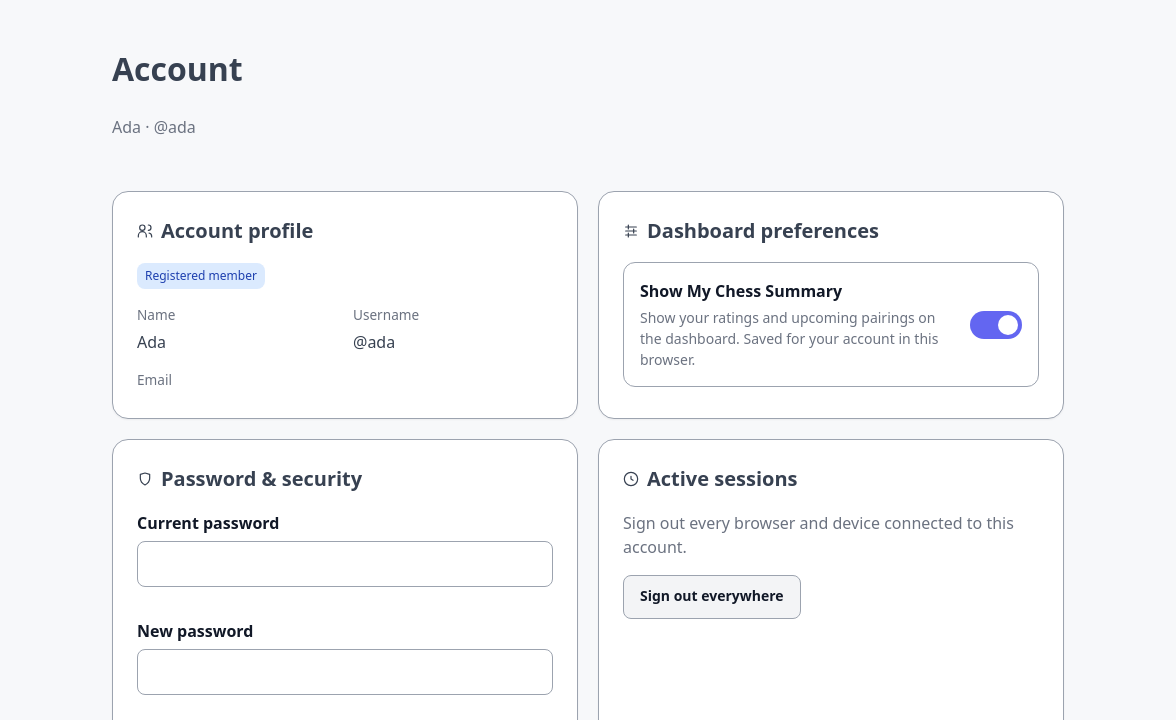
Test: retains password success after clearing authentication and rendering login
The image size is (1176, 720).
Expected: the heading "Account" is shown, [112,47,243,90]
Type "old-password" into the password field labelled "Current password".
click(345, 564); type("old-password")  # box [137,541,553,587]
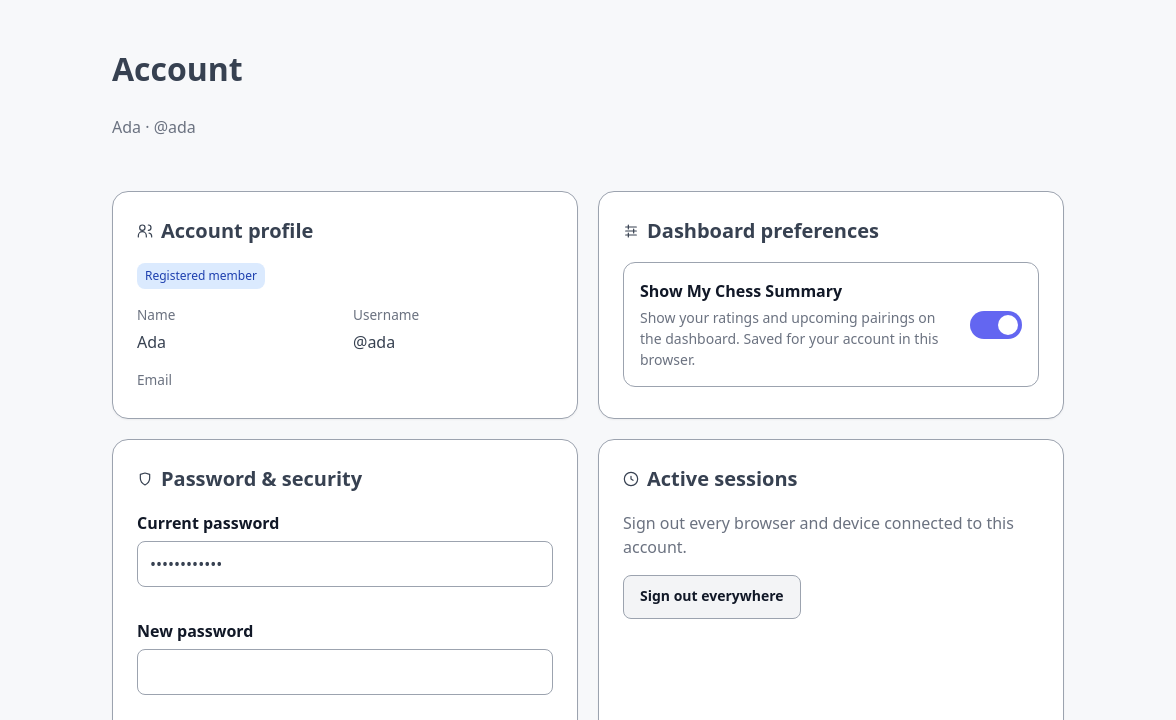
Type "new-password" into the password field labelled "New password".
click(345, 672); type("new-password")  # box [137,649,553,695]
(page scrolled)
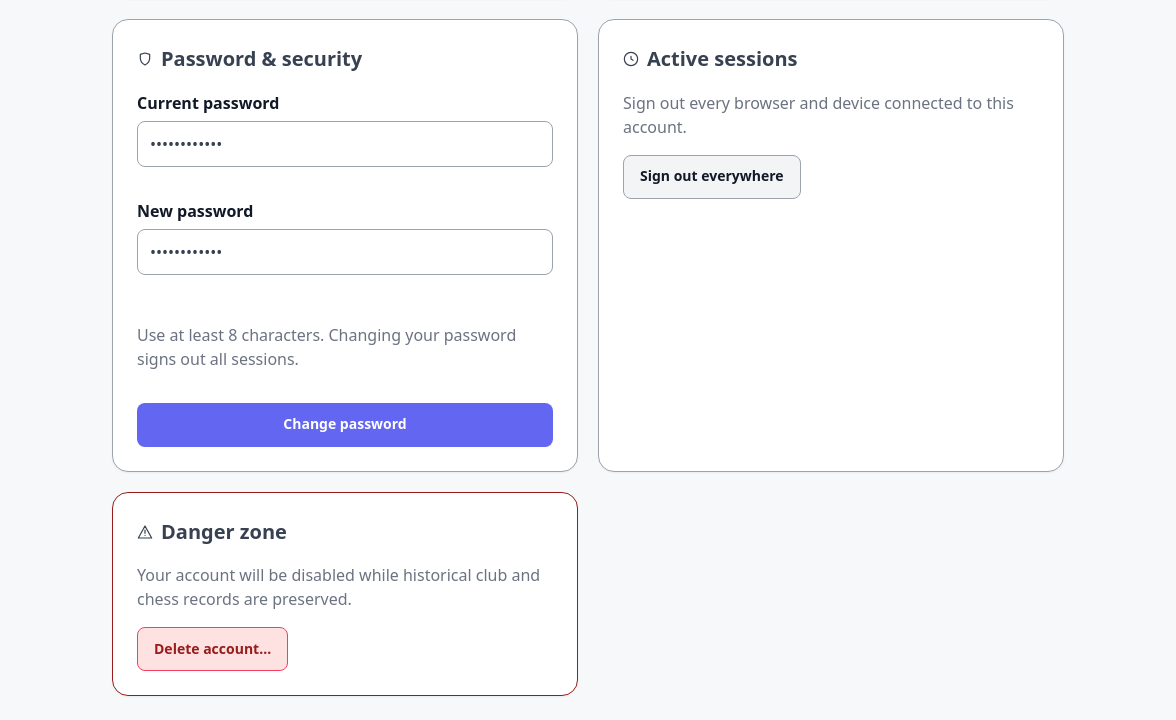
Click the button "Change password".
click(345, 425)  # box [137,403,553,447]
(page scrolled)
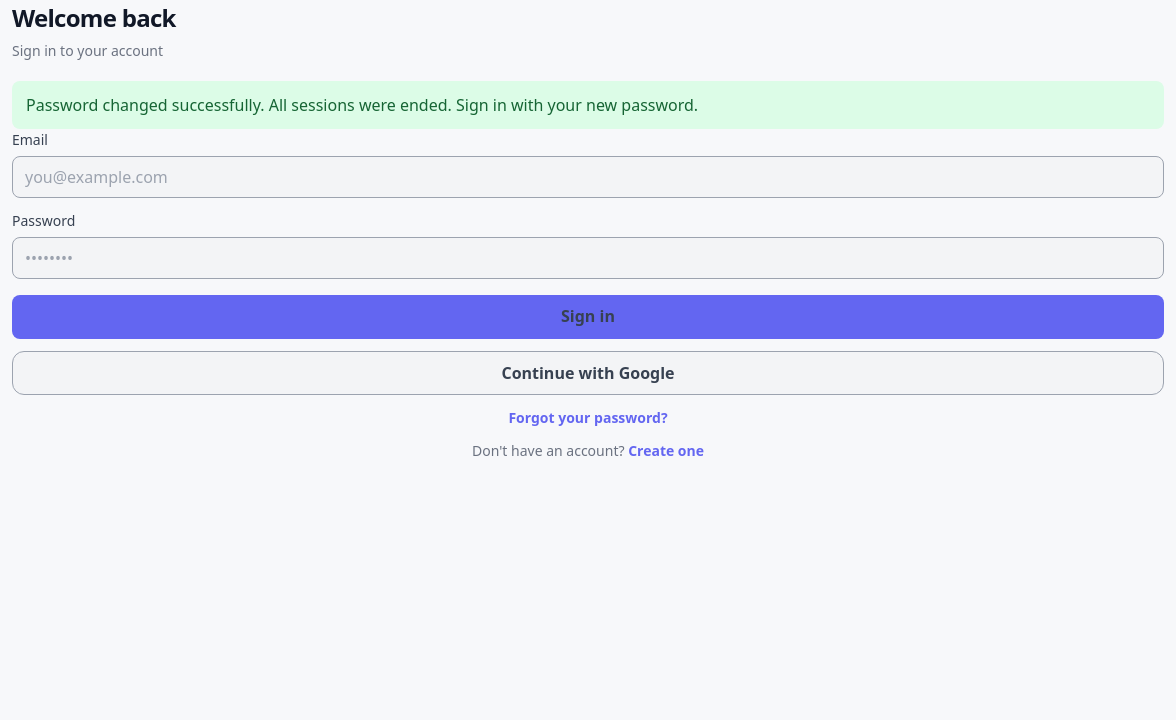
Expected: the message shows "Password changed successfully. All sessions were ended.", [26,94,698,116]
Expected: the button "Sign in" is shown, [12,295,1164,339]
